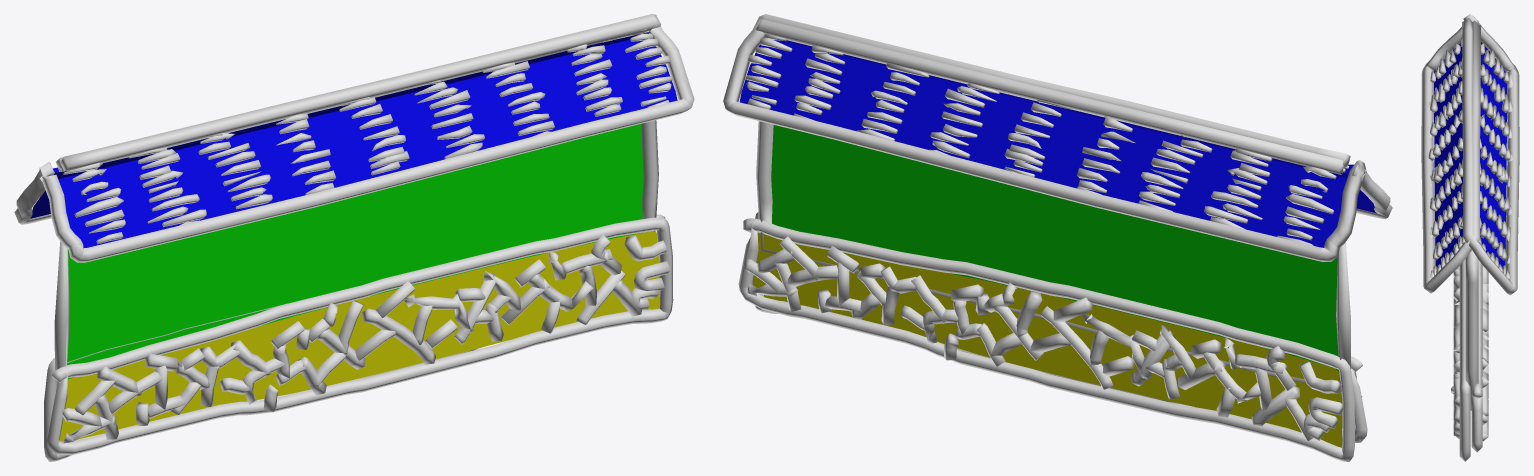
Rendered from wall1.fbx.
3 renders of one model, left to right at view 1: azimuth 30°, elevation 25°; view 2: azimuth 150°, elevation 25°; view 3: azimuth 270°, elevation 25°, orthographic. The views are drawn at different scales.
Visible parts, largest first — view 1: GP_Layer.001; view 2: GP_Layer.001; view 3: GP_Layer.001.
Part boxes in pixels (<box>): GP_Layer.001: <box>14,14,694,461</box>; GP_Layer.001: <box>723,14,1392,461</box>; GP_Layer.001: <box>1421,14,1519,461</box>.
Size of the model in its own units: 617 by 286 by 112.
